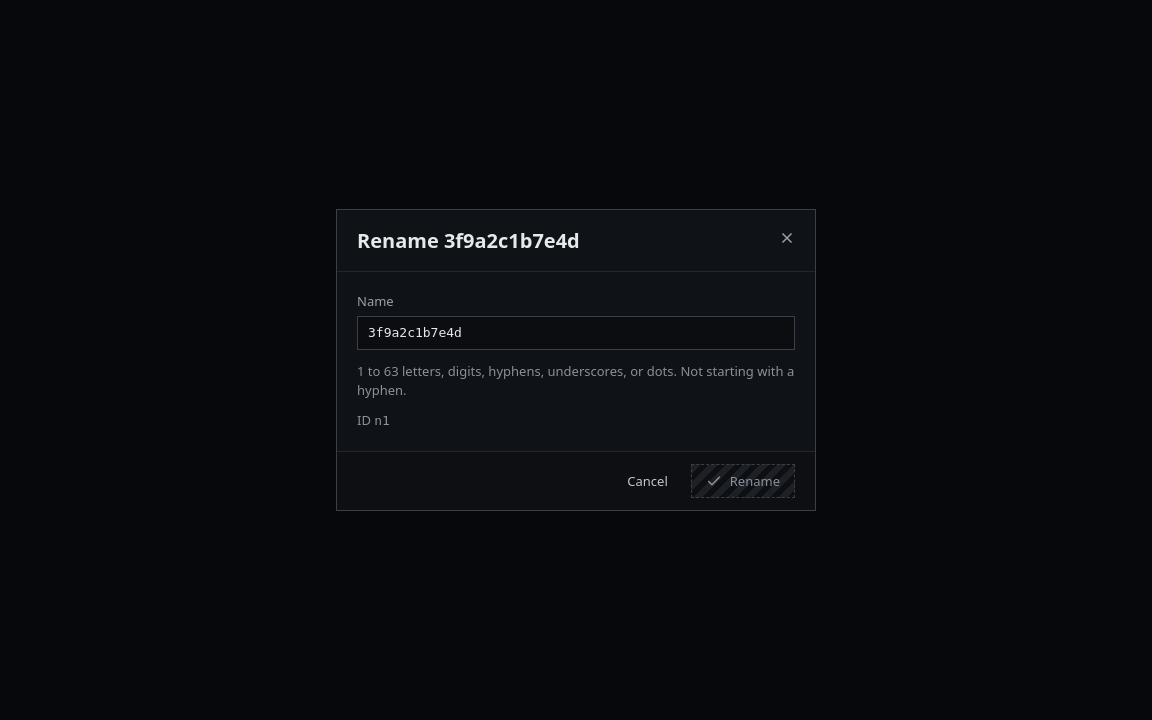
Test: says plainly that another device has the name
Replace the text in the field labelled "Name" with "server" at coordinates (576, 333), box [357, 316, 795, 350]
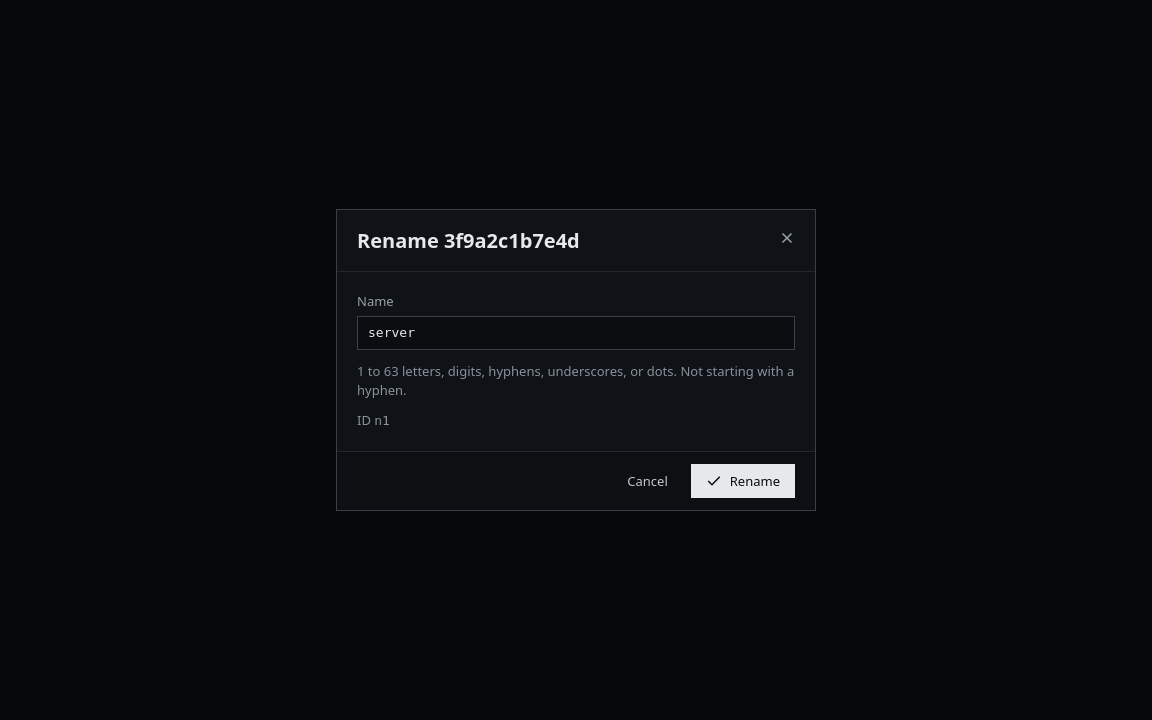
Click the button "Rename" at coordinates (743, 481), box [691, 464, 795, 498]
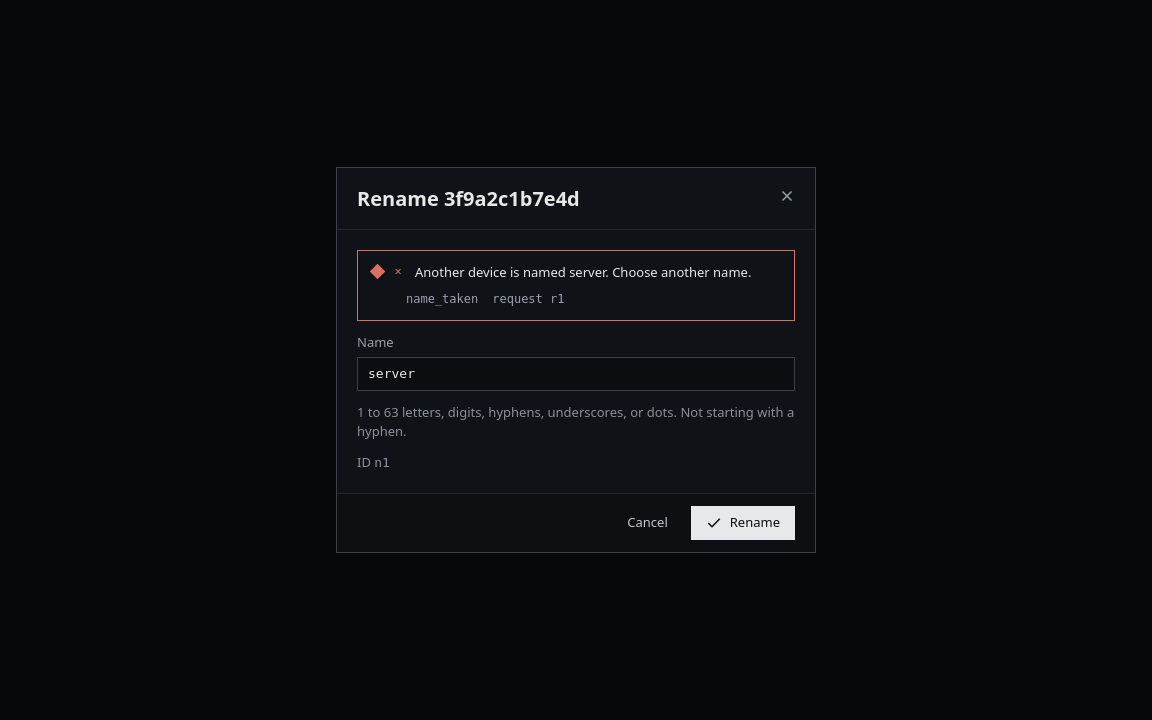
Now the text "Another device is named server. Choose another name." is shown, box [415, 263, 751, 283]
